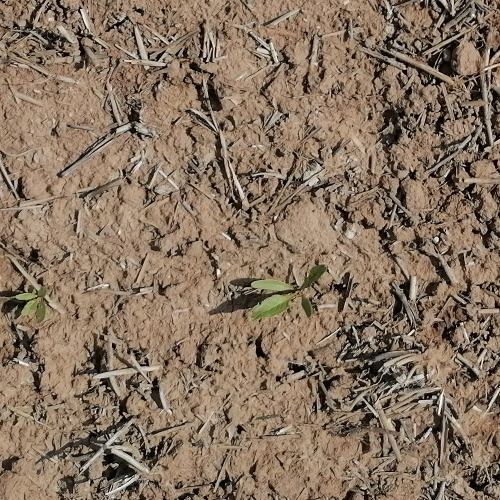beet: (247, 266, 327, 321), (16, 285, 50, 323)
